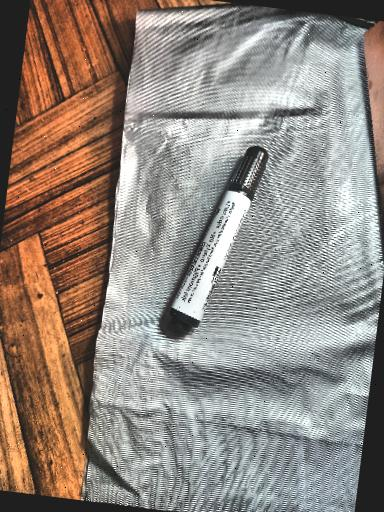marcador negro: (169, 146, 267, 332)
